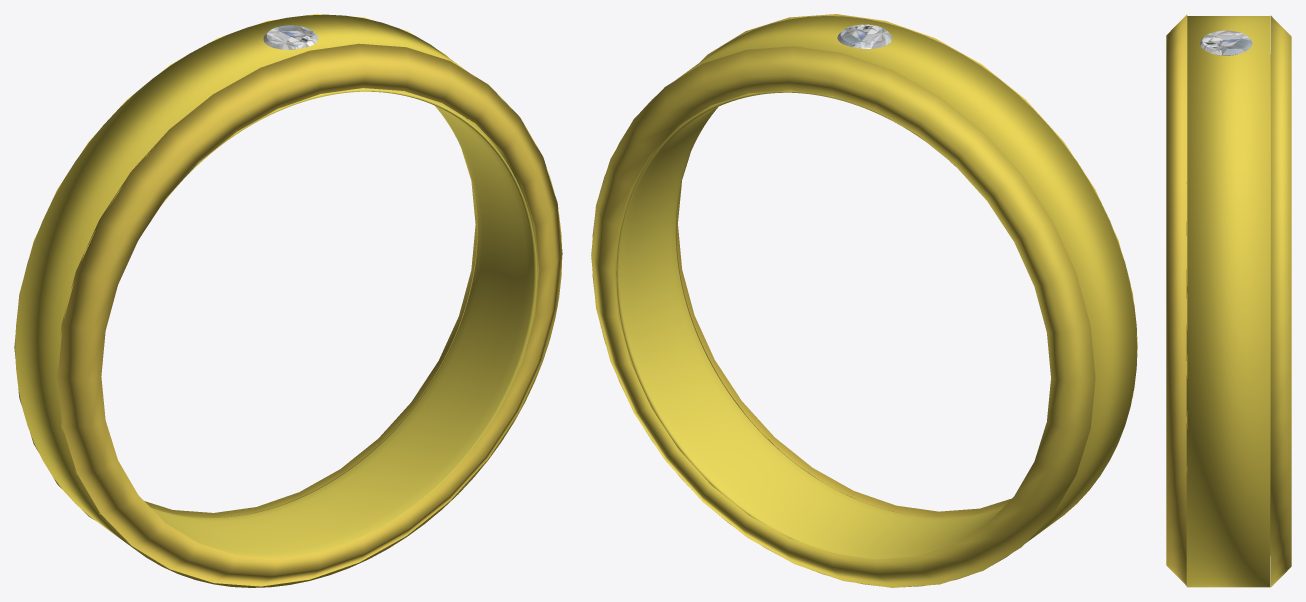
Rendered from ringchanffinacompedra.glb.
The picture shows the model from 3 angles, left to right: view 1: azimuth 30°, elevation 25°; view 2: azimuth 150°, elevation 25°; view 3: azimuth 270°, elevation 25°; orthographic projection.
Visible parts, largest first — view 1: Circle, Cone; view 2: Circle, Cone; view 3: Circle, Cone.
Boxes of the visible parts, x1=… form: Circle: x1=14, y1=14, x2=562, y2=587; Cone: x1=263, y1=25, x2=318, y2=49; Circle: x1=591, y1=14, x2=1137, y2=587; Cone: x1=837, y1=24, x2=892, y2=48; Circle: x1=1166, y1=14, x2=1291, y2=587; Cone: x1=1200, y1=30, x2=1252, y2=55.
Size of the model in its own units: 1.88 by 1.89 by 0.4111.
5 materials, 1 textured.
